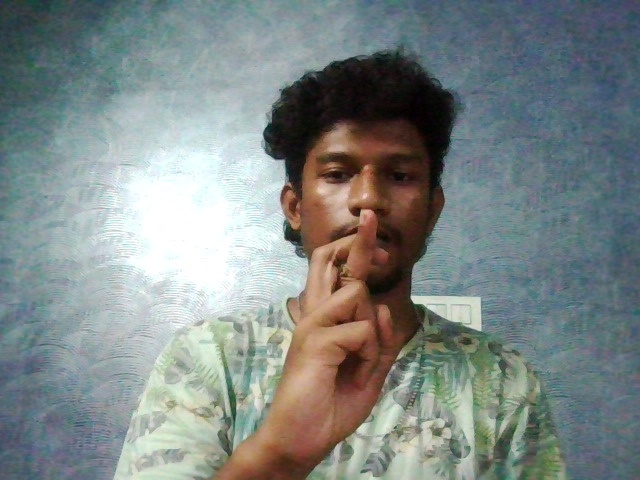hope: (252, 205, 419, 476)
